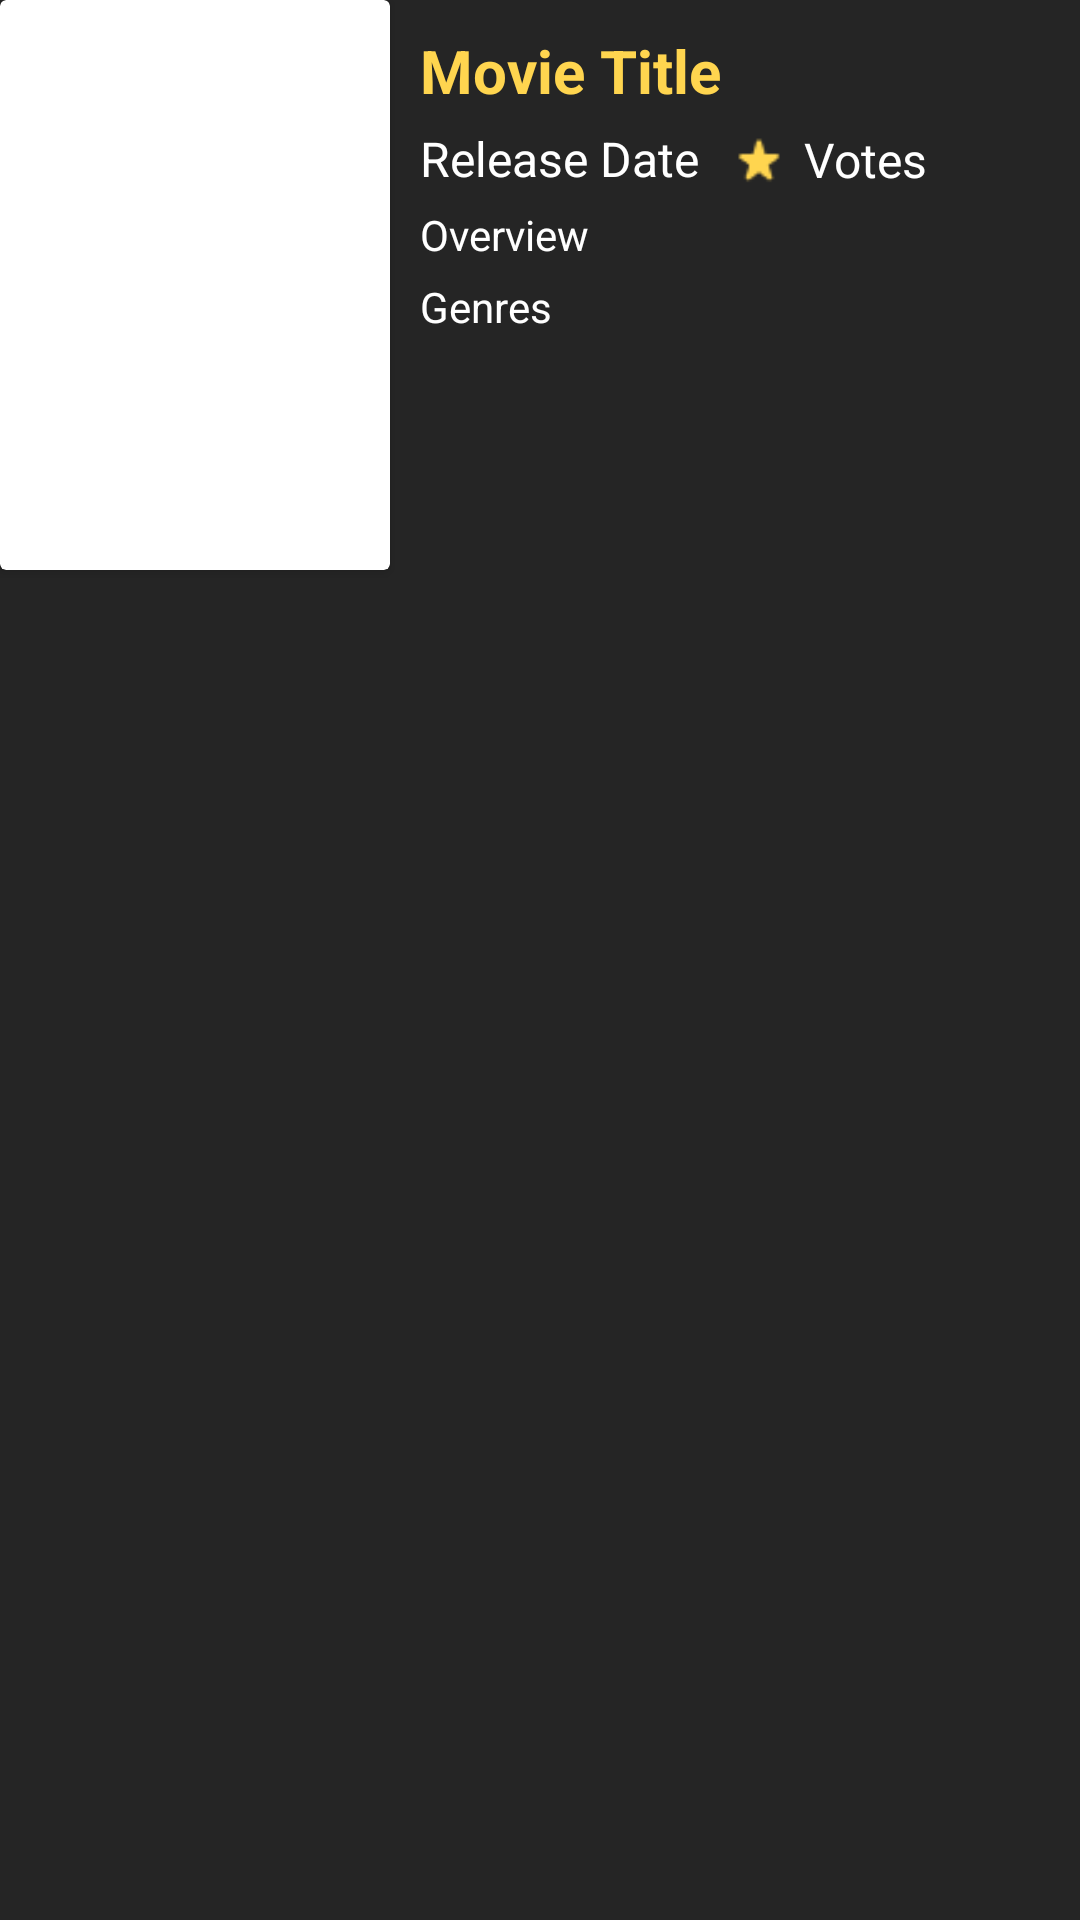

Named icons in this screenshot (1080px x 1920px) and their centers, (x,y):
star: (759,160)
